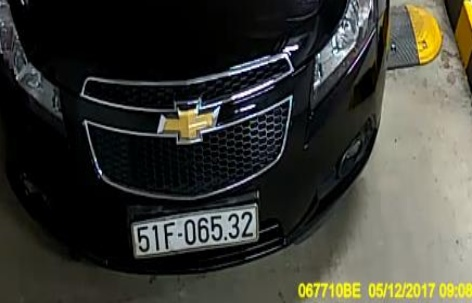plate: (122, 204, 271, 263)
